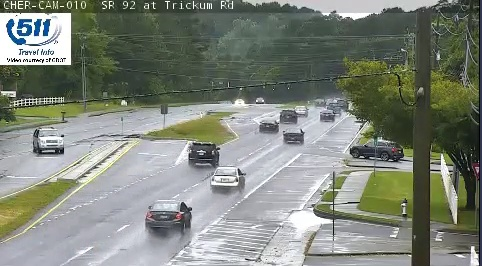car: (144, 200, 192, 231), (211, 166, 244, 190), (187, 141, 219, 164), (283, 127, 303, 142), (259, 119, 279, 132), (279, 109, 297, 122), (293, 105, 307, 116), (320, 110, 335, 120)
